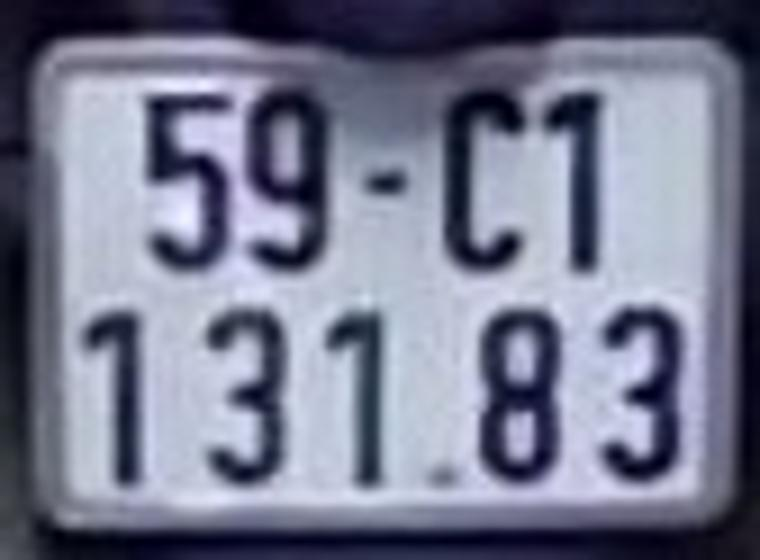-: (356, 162, 411, 198)
.: (411, 454, 461, 494)
1: (74, 302, 150, 494), (542, 88, 609, 278), (322, 305, 388, 496)
3: (202, 301, 290, 491), (600, 302, 683, 483)
5: (136, 85, 235, 274)
8: (477, 308, 564, 489)
9: (243, 83, 334, 277)
C: (439, 87, 529, 275)
